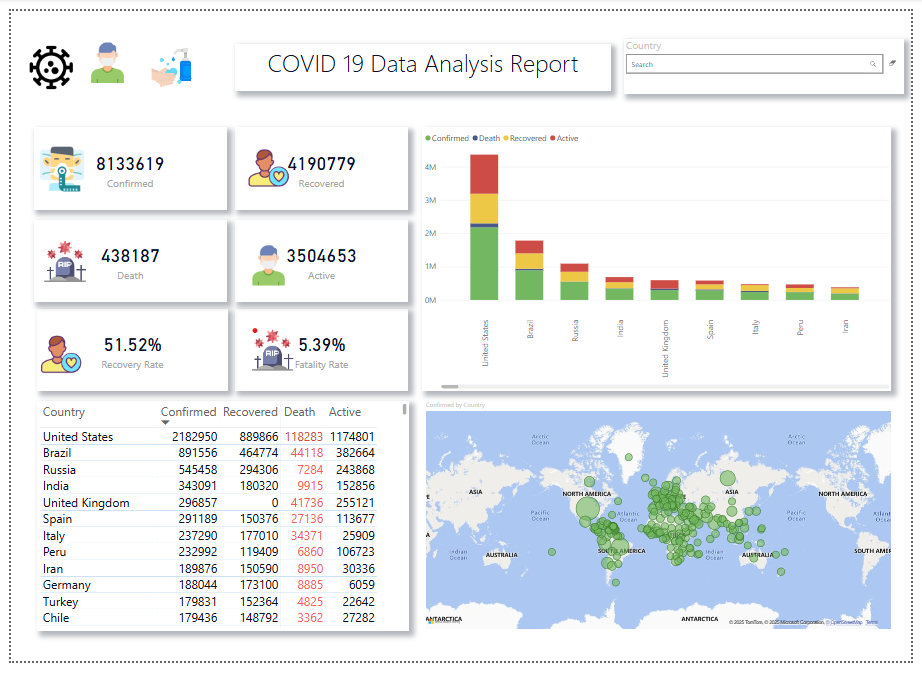

Layout of this report page (visuals, bound fields, positions):
{"tool":"powerbi","page":{"name":"Dashboard","canvas":[1800,1300],"ordinal":0},"visuals":[{"type":"card","fields":{"Values":["Sum(countries.Recovered)"]},"box":[448.5,232.2,347.3,164.7],"z":0},{"type":"card","fields":{"Values":["Sum(countries.Death)"]},"box":[45.6,416.8,387,164.7],"z":1000},{"type":"image","box":[32,64,96,96],"z":2000},{"type":"image","box":[144,48,96,112],"z":3000},{"type":"image","box":[466.4,258,97.2,113.1],"z":4000},{"type":"image","box":[51.6,452.5,111.1,95.3],"z":5000},{"type":"image","box":[272,64,96,96],"z":6000},{"type":"textbox","box":[448,64,752,96],"z":7000},{"type":"card","fields":{"Values":["Sum(countries.Confirmed)"]},"box":[45.6,232.2,387,164.7],"z":8000},{"type":"image","box":[51.6,263.9,99.2,103.2],"z":9000},{"type":"card","fields":{"Values":["Sum(countries.Active)"]},"box":[448.5,416.8,347.3,164.7],"z":10000},{"type":"card","fields":{"Values":["countries.Recovery Rate"]},"box":[51.6,595.4,381,164.7],"z":11000},{"type":"card","fields":{"Values":["countries.Fatality Rate"]},"box":[448.5,595.4,347.3,164.7],"z":12000},{"type":"image","box":[466.4,631.1,111.1,95.3],"z":13000},{"type":"image","box":[466.4,452.5,95.3,113.1],"z":14000},{"type":"image","box":[53.6,631.1,97.2,113.1],"z":15000},{"type":"columnChart","fields":{"Category":["countries.Country"],"Y":["Sum(countries.Confirmed)","Sum(countries.Death)","Sum(countries.Recovered)","Sum(countries.Active)"]},"box":[823.6,232.2,938.7,527.9],"z":16000},{"type":"tableEx","fields":{"Values":["countries.Country","Sum(countries.Confirmed)","Sum(countries.Recovered)","Sum(countries.Death)","Sum(countries.Active)"]},"box":[51.6,779.9,744.2,460.4],"z":17000},{"type":"textFilter25A4896A83E0487089E2B90C9AE57C8A","fields":{"field":["countries.Country"]},"box":[1224.5,55.6,561.6,111.1],"z":18000},{"type":"map","fields":{"Category":["countries.Country"],"Size":["Sum(countries.Confirmed)"]},"box":[824,780,939,460],"z":19000}]}

Visuals, with their boxes in screenshot pixels (x1, y1, x2, y2), scaled from the page's 1800x1300 canvas onto the 922x673 screenshot:
card - Sum(countries.Recovered): x1=230, y1=120, x2=408, y2=205
card - Sum(countries.Death): x1=23, y1=216, x2=222, y2=301
image: x1=16, y1=33, x2=66, y2=83
image: x1=74, y1=25, x2=123, y2=83
image: x1=239, y1=134, x2=289, y2=192
image: x1=26, y1=234, x2=83, y2=284
image: x1=139, y1=33, x2=188, y2=83
textbox: x1=229, y1=33, x2=615, y2=83
card - Sum(countries.Confirmed): x1=23, y1=120, x2=222, y2=205
image: x1=26, y1=137, x2=77, y2=190
card - Sum(countries.Active): x1=230, y1=216, x2=408, y2=301
card - countries.Recovery Rate: x1=26, y1=308, x2=222, y2=393
card - countries.Fatality Rate: x1=230, y1=308, x2=408, y2=393
image: x1=239, y1=327, x2=296, y2=376
image: x1=239, y1=234, x2=288, y2=293
image: x1=27, y1=327, x2=77, y2=385
columnChart - countries.Country x Sum(countries.Confirmed): x1=422, y1=120, x2=903, y2=393
tableEx - countries.Country x Sum(countries.Confirmed): x1=26, y1=404, x2=408, y2=642
textFilter25A4896A83E0487089E2B90C9AE57C8A - countries.Country: x1=627, y1=29, x2=915, y2=86
map - countries.Country x Sum(countries.Confirmed): x1=422, y1=404, x2=903, y2=642
